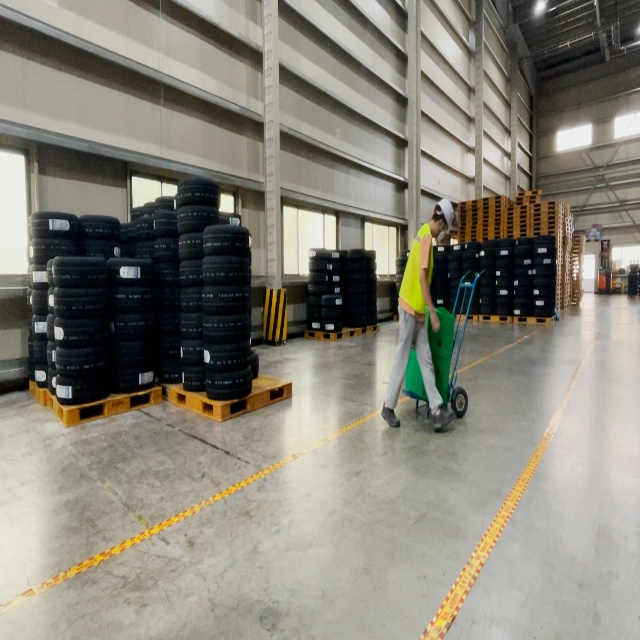Box: (407, 348, 451, 407), (410, 306, 456, 361)
Worker: (381, 199, 457, 433)
